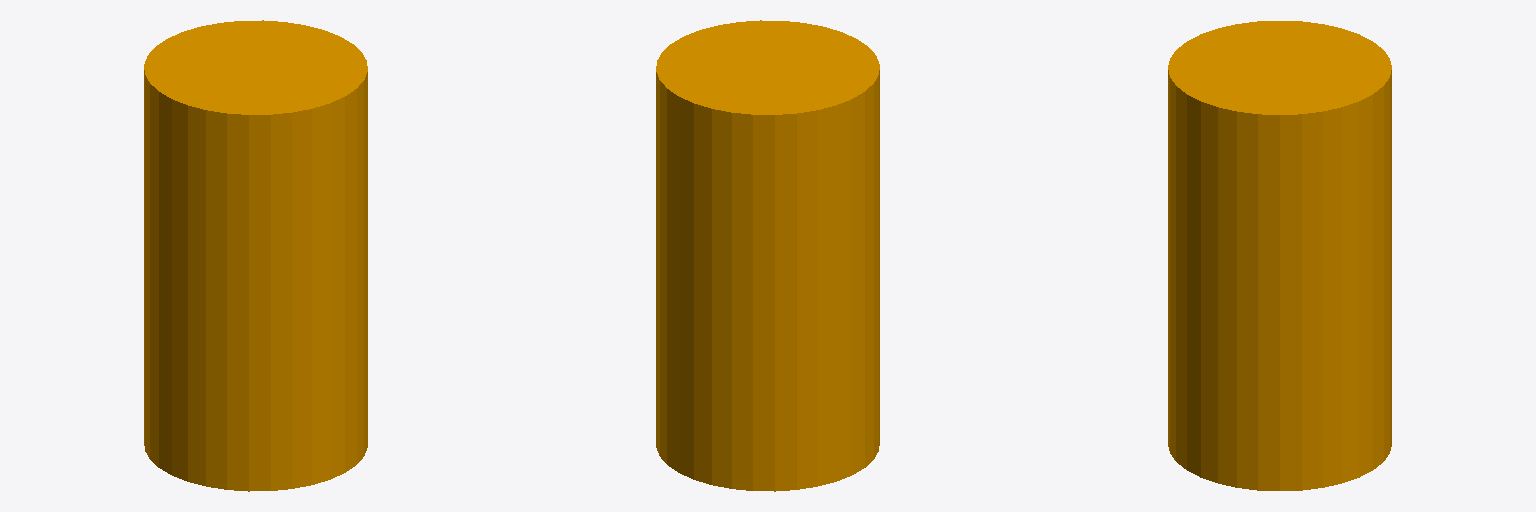
URDF robot description (roblog-vanish-detergent-simple):
<?xml version="1.0" ?>
<!-- =================================================================================== -->
<!-- |    This document was autogenerated by xacro from model.urdf.xml                 | -->
<!-- |    EDITING THIS FILE BY HAND IS NOT RECOMMENDED                                 | -->
<!-- =================================================================================== -->
<robot name="roblog-vanish-detergent-simple" xmlns:controller="http://playerstage.sourceforge.net/gazebo/xmlschema/#controller" xmlns:interface="http://playerstage.sourceforge.net/gazebo/xmlschema/#interface" xmlns:sensor="http://playerstage.sourceforge.net/gazebo/xmlschema/#sensor" xmlns:xacro="http://www.ros.org/wiki/xacro">
  <!-- Little helper macro to define the inertia matrix needed for links. -->
  <!-- Length is along the y-axis. -->
  <!-- Little helper macro to define the inertia matrix needed for links. -->
  <!-- Length is along the y-axis. -->
  <link name="link">
    <visual>
      <origin rpy="0 0 0" xyz="0 0 0"/>
      <geometry>
        <cylinder length="0.2" radius="0.054"/>
      </geometry>
      <material name="Gazebo/PurpleGlow"/>
    </visual>
    <collision>
      <origin rpy="0 0 0" xyz="0 0 0"/>
      <contact_coefficients mu="1.0"/>
      <geometry>
        <cylinder length="0.2" radius="0.054"/>
      </geometry>
      <surface>
        <friction>
          <ode>
            <mu>1</mu>
            <mu2>1</mu2>
          </ode>
        </friction>
      </surface>
    </collision>
    <inertial>
      <mass value="0.08"/>
      <inertia ixx="0.000324986666667" ixy="0" ixz="0" iyy="0.000324986666667" iyz="0" izz="0.00011664"/>
    </inertial>
  </link>
  <gazebo reference="link">
    <material>Gazebo/PurpleGlow</material>
    <dampingFactor>0.005</dampingFactor>
  </gazebo>
</robot>

--- Render facts (derived) ---
Views: 3 orthographic renders of the robot side by side, from view 1: azimuth 30°, elevation 25°; view 2: azimuth 150°, elevation 25°; view 3: azimuth 270°, elevation 25°.
Model roblog-vanish-detergent-simple with 1 links and 0 joints (none), rooted at link, posed all joints at 0.
Visible links, largest first — view 1: link; view 2: link; view 3: link.
Boxes of the visible links, x1,y1,x2,y2 form: link: (144,20,367,491); link: (656,20,879,491); link: (1168,21,1391,490).
Bounding box of the posed robot: 0.108 × 0.108 × 0.2 m (x, y, z).
Geometry: primitives only (box / cylinder / sphere), no mesh files.